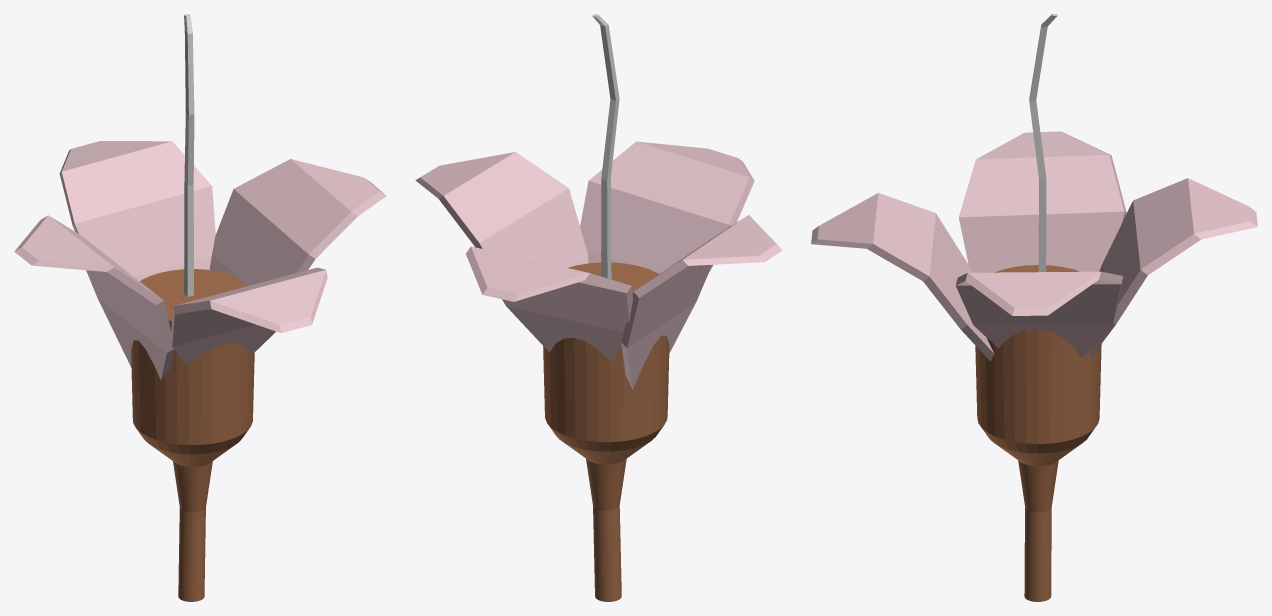
File: mint2.fbx
3 renders of one model, left to right at view 1: azimuth 30°, elevation 25°; view 2: azimuth 150°, elevation 25°; view 3: azimuth 270°, elevation 25°, orthographic. The views are drawn at different scales.
Parts seen in each view (by area): view 1: Cube; view 2: Cube; view 3: Cube.
Part boxes in pixels (<box>): Cube: <box>14,14,386,601</box>; Cube: <box>415,14,782,601</box>; Cube: <box>811,14,1257,601</box>.
Size of the model in its own units: 69.73 by 109 by 75.94.
